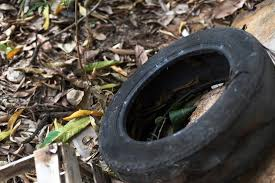tire: (98, 28, 274, 183)
